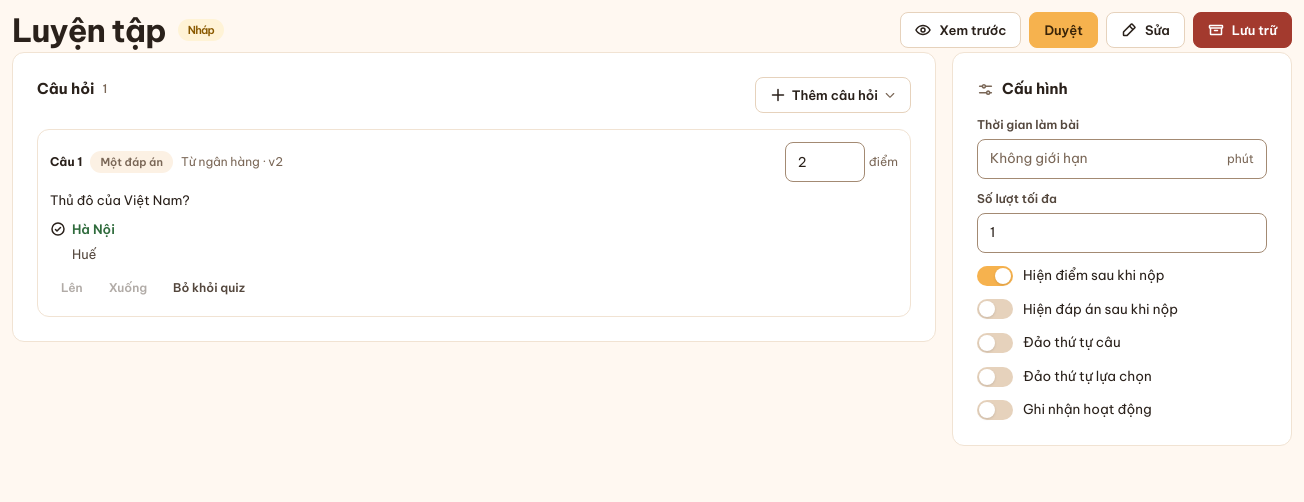
it: QuizDetailPage › điểm sai thì báo đúng lỗi, không gọi API kể cả khi cấu hình cũng đổi
Replace the text in the field with test id "quiz-item-points-0" with "0" at (825, 162), box [798,153,852,171]
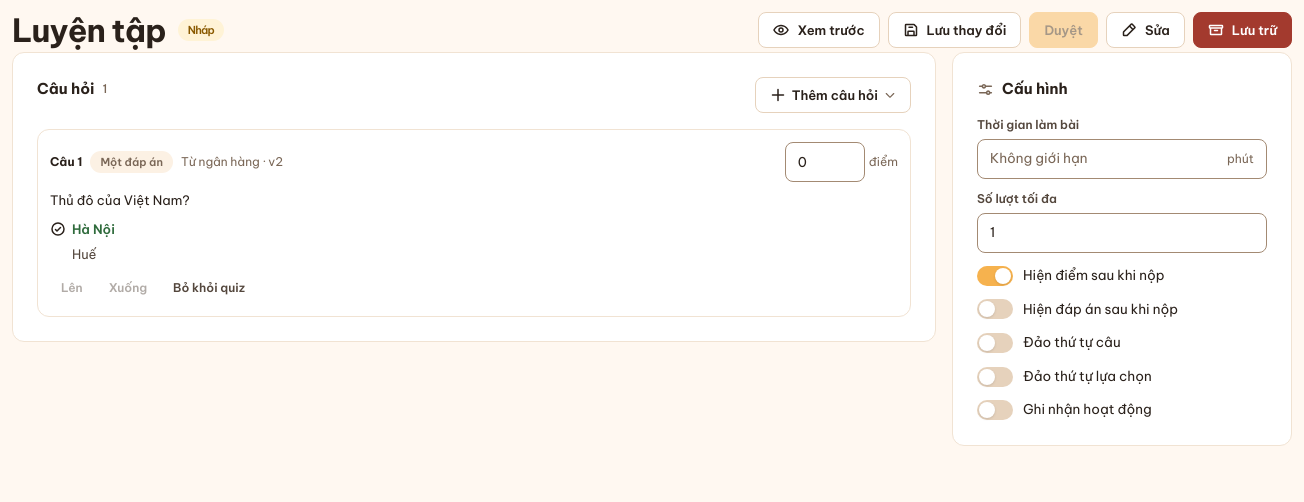
Click the switch named "Đảo thứ tự câu" at (995, 343), box [977,333,1013,353]
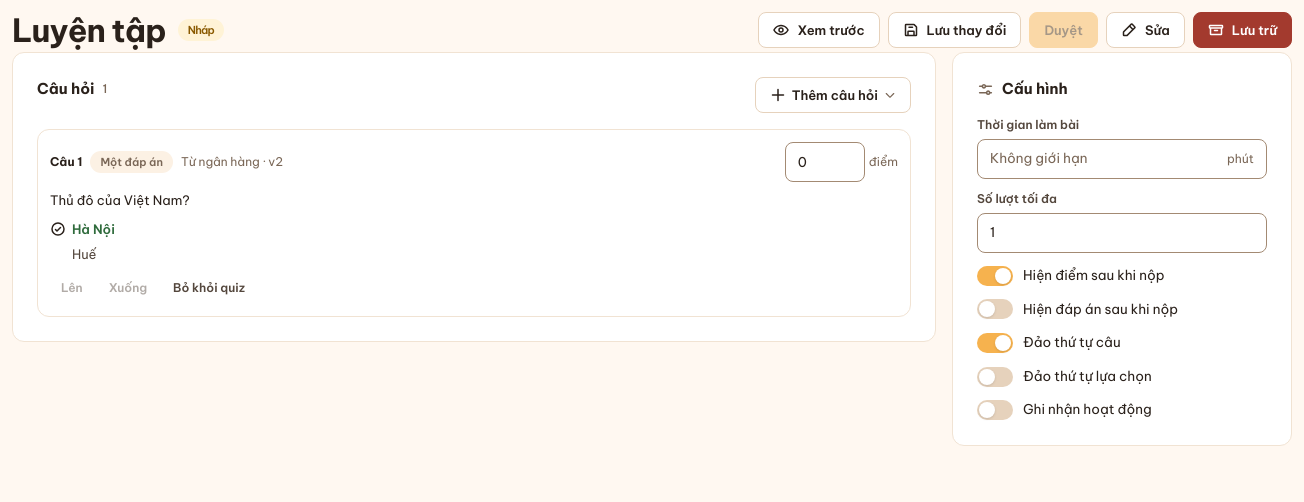
Click the button with test id "quiz-detail-save" at (954, 30), box [888,12,1021,48]
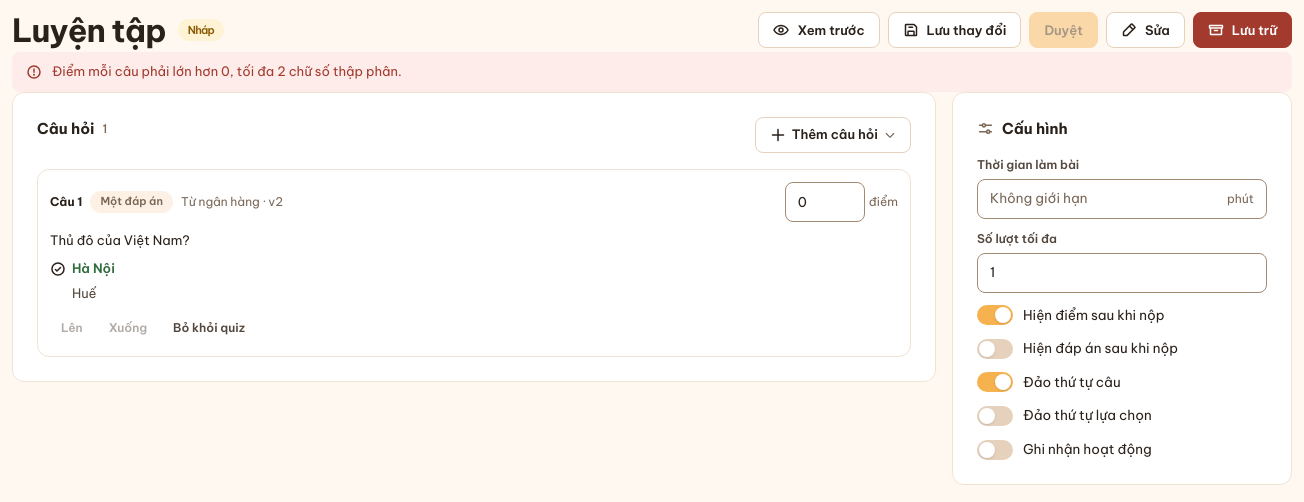
Check: the message reads "Điểm mỗi câu phải lớn hơn 0, tối đa 2 chữ số thập phân.", box [52,63,402,79]
